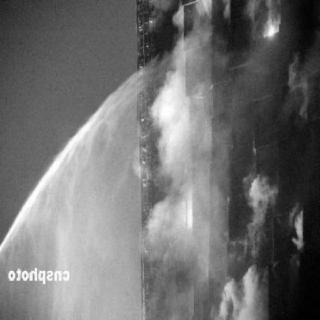Fire: (177, 194, 195, 231)
